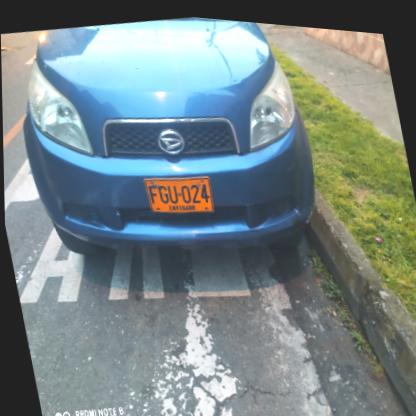placa: (136, 159, 222, 227)
